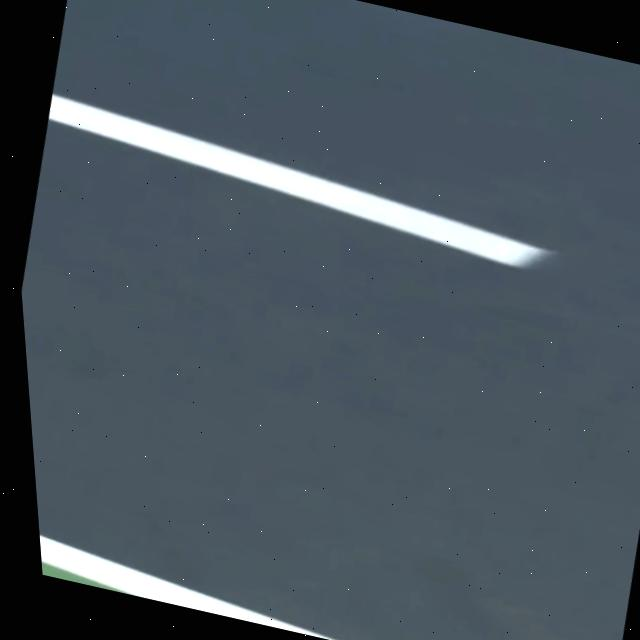center: (47, 93, 548, 265)
right: (40, 535, 337, 640)
